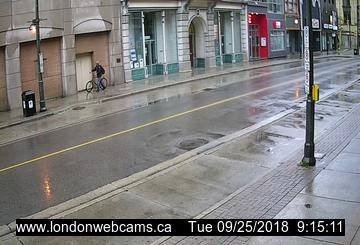riding bicycle: (83, 57, 112, 92)
